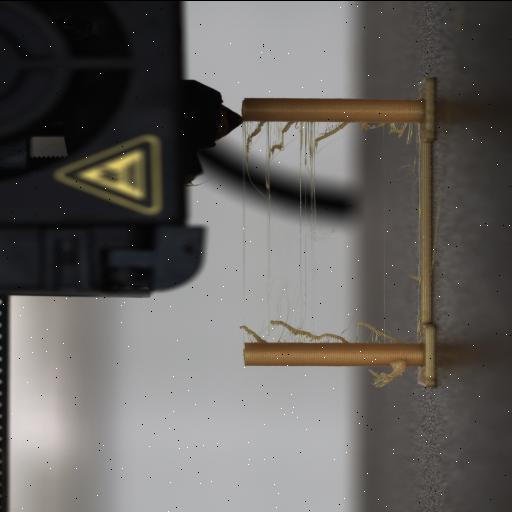stringing: (241, 117, 323, 343)
